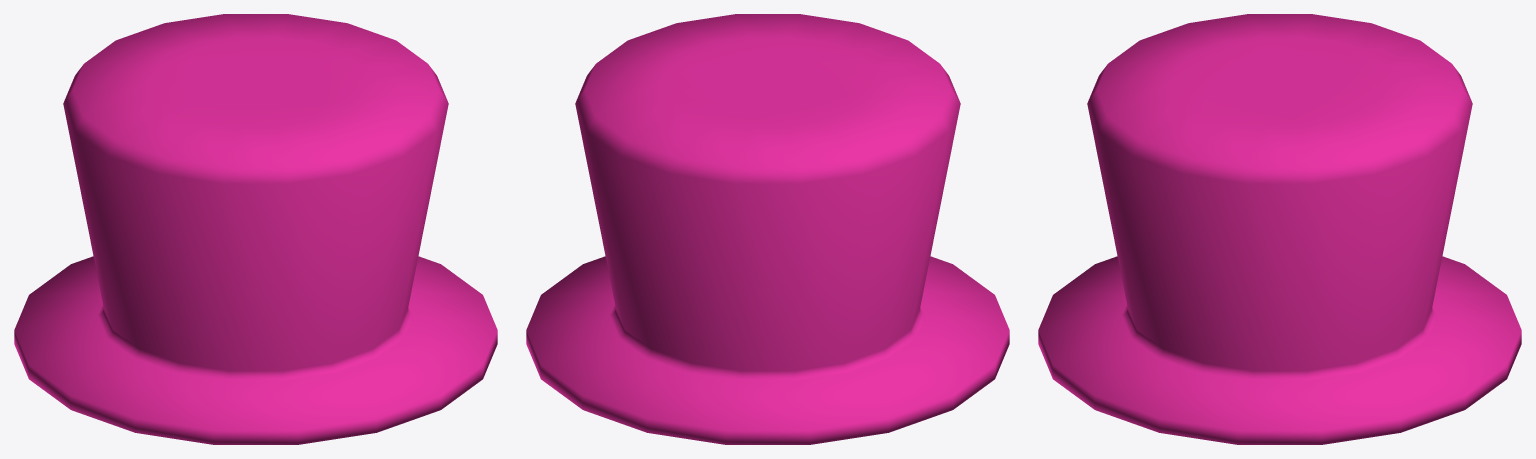
File: Prop_TopHat1_Head.fbx
3 renders of one model, left to right at view 1: azimuth 30°, elevation 25°; view 2: azimuth 150°, elevation 25°; view 3: azimuth 270°, elevation 25°, orthographic.
Parts seen in each view (by area): view 1: Circle.001; view 2: Circle.001; view 3: Circle.001.
Boxes of the visible parts, box(x1,y1,x2,y2) form: Circle.001: box(14, 14, 497, 444); Circle.001: box(526, 14, 1009, 444); Circle.001: box(1038, 14, 1521, 444).
Bounding box in the file's own units: 104 × 62.94 × 105.
